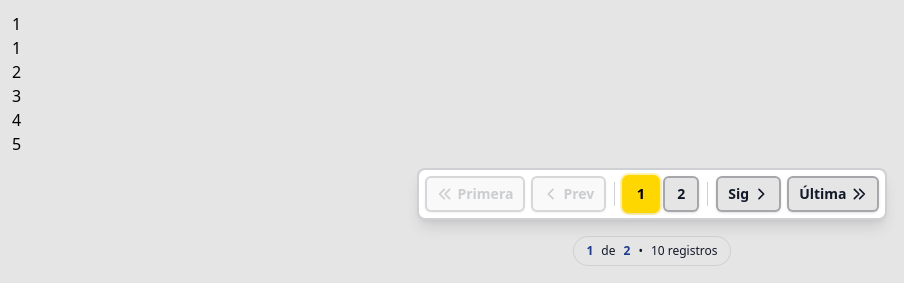
Pagination › changes page when next button is clicked
The image size is (904, 283).
Expected: the text with test id "current-page" reads "1", 12,13 -> 21,35
Expected: the list with test id "visible-items" reads "1 2 3 4 5", 12,37 -> 21,155
What coordinates should you click on to do the following:
click the button with aria-label "siguiente"
I would click on:
 (749, 194)
Its box is 716,176 -> 781,212.
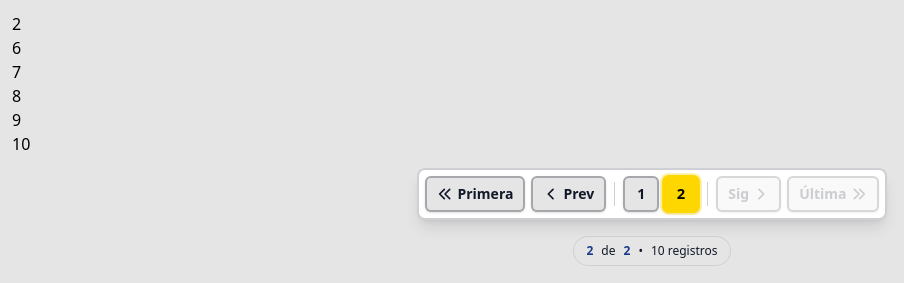
Expected: the text with test id "current-page" reads "2", 12,13 -> 21,35
Expected: the list with test id "visible-items" reads "6 7 8 9 10", 12,37 -> 30,155
